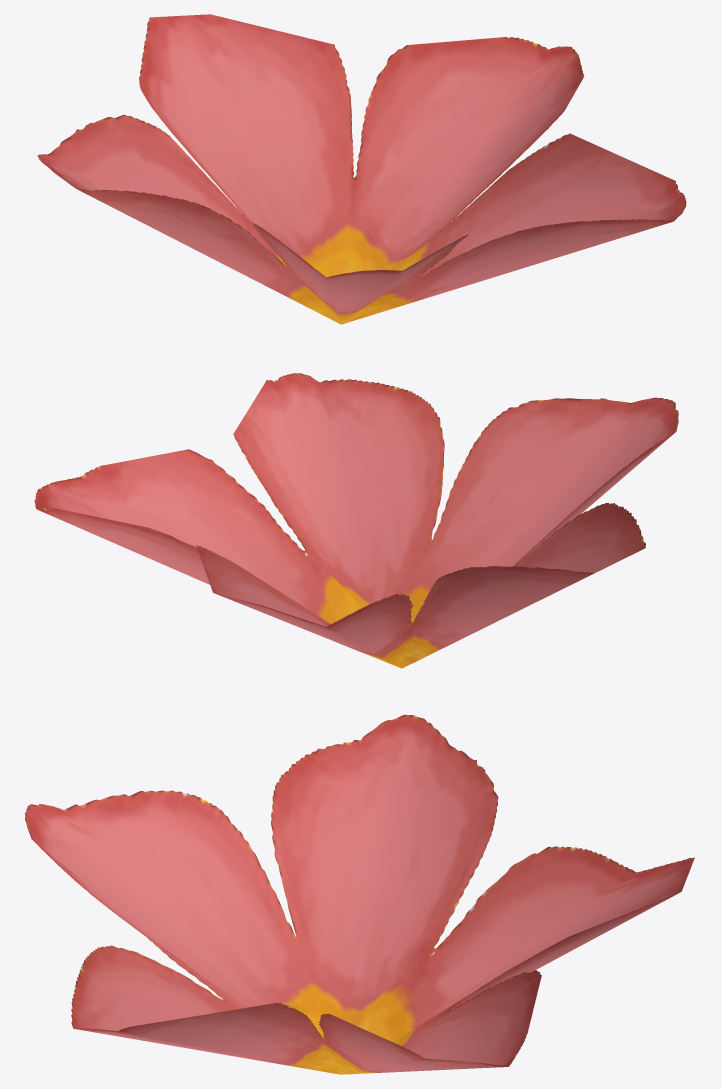
The model's file is petal_5.glb.
3 views of the same model, one above another, from view 1: azimuth 30°, elevation 25°; view 2: azimuth 150°, elevation 25°; view 3: azimuth 270°, elevation 25° (orthographic). The views are drawn at different scales.
Parts seen in each view (by area): view 1: Petal_5; view 2: Petal_5; view 3: Petal_5.
Part boxes in pixels (x1,y1,x2,y2): Petal_5: (37, 14, 686, 324); Petal_5: (34, 373, 678, 668); Petal_5: (25, 714, 694, 1074).
Bounding box in the file's own units: 0.834 × 0.2888 × 0.7952.
Materials: 1 (1 with a texture image).
